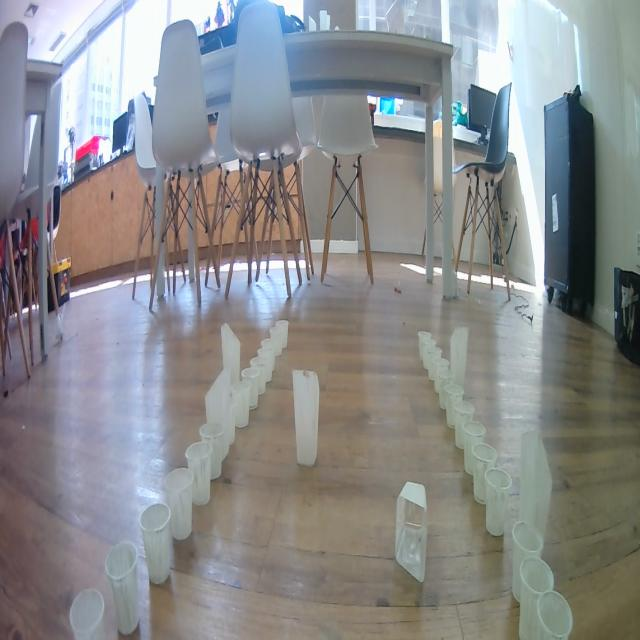erva_daninha: (518, 432, 551, 541), (394, 481, 428, 583), (292, 370, 320, 468), (220, 322, 242, 399), (205, 367, 228, 429), (451, 328, 468, 389)
planta: (106, 540, 140, 638), (518, 557, 555, 640), (139, 502, 172, 586), (511, 521, 544, 603), (164, 466, 194, 542), (69, 588, 107, 640), (484, 467, 512, 537), (536, 590, 574, 640), (185, 442, 212, 506), (472, 443, 496, 505), (200, 422, 223, 480), (463, 422, 486, 475), (454, 401, 475, 450), (213, 403, 230, 462), (231, 378, 249, 427), (446, 385, 464, 430), (242, 367, 260, 410), (222, 391, 236, 445), (439, 370, 455, 410), (250, 356, 266, 395), (434, 358, 449, 395), (258, 347, 272, 383), (261, 338, 276, 371), (428, 346, 442, 381), (418, 331, 432, 364), (276, 319, 289, 350), (269, 328, 282, 357), (423, 338, 435, 369)
